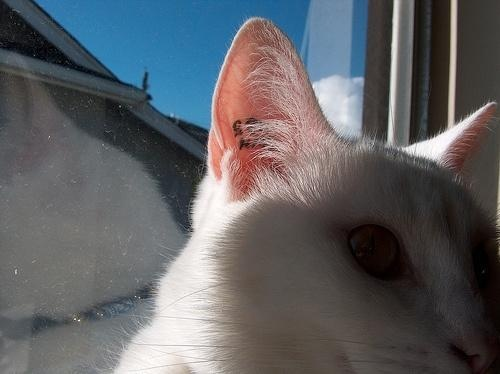cat: (111, 16, 500, 374)
